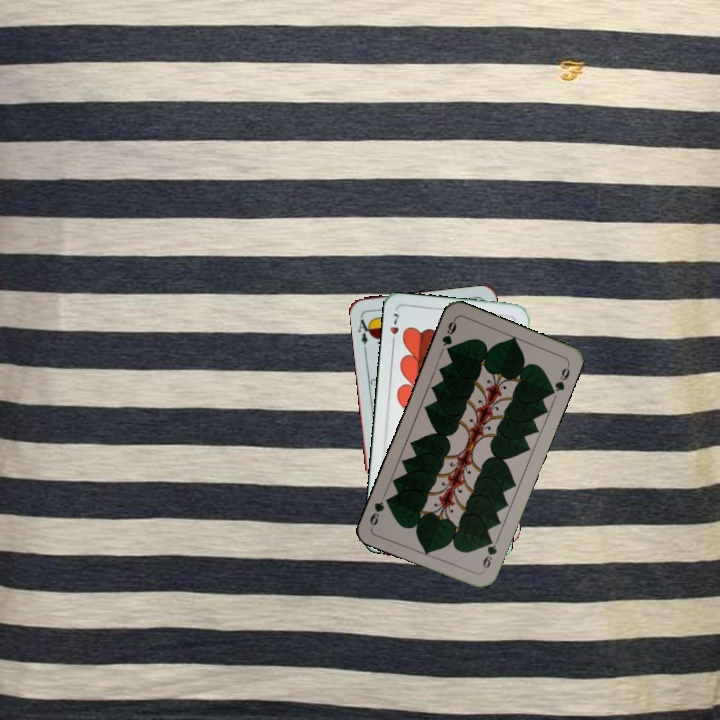EA: (354, 312, 375, 347)
G9: (438, 315, 459, 356), (479, 534, 500, 571)
H7: (386, 309, 401, 348)
